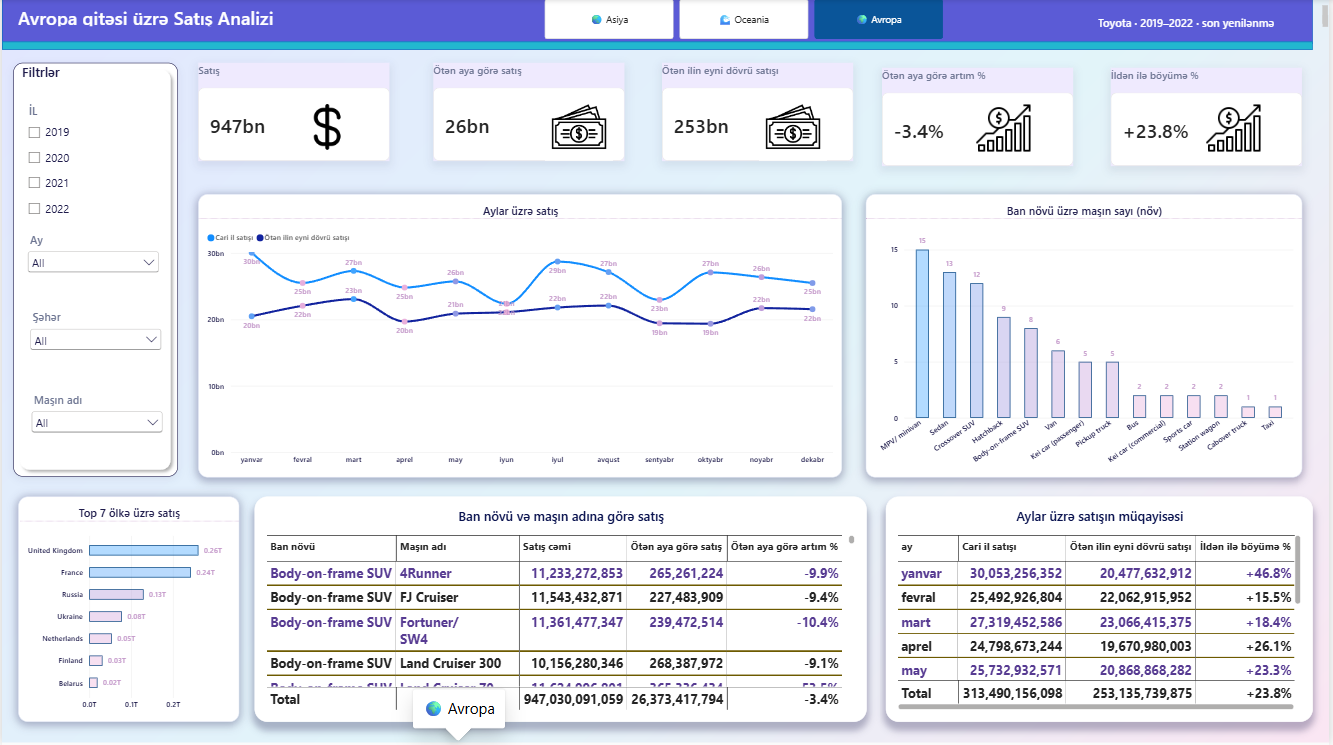

What the dashboard file says about the page in this screenshot:
{"tool":"powerbi","page":{"name":"🌍 Avropa","canvas":[1920,1080],"ordinal":2},"visuals":[{"type":"shape","box":[0,0,1898,64.9],"z":0,"group":"g1"},{"type":"shape","box":[16,92.6,238,599.4],"z":0,"group":"g2"},{"type":"group","id":"g1","title":"Group 1","box":[0,0,1897.2,73.6],"z":1000},{"type":"shape","box":[0,62.2,1898,11.9],"z":1000,"group":"g1"},{"type":"textbox","box":[24.3,8.6,1895.7,30],"z":2000},{"type":"textbox","box":[24.3,35.7,1255.7,22.9],"z":3000},{"type":"textbox","box":[1587.1,24.3,332.9,24.3],"z":4000},{"type":"textbox","box":[29.4,92,147.1,32.6],"z":5000,"group":"g2"},{"type":"slicer","fields":{"Values":["Calendar.il"]},"box":[30,150,125.9,172.7],"z":6000,"group":"g2"},{"type":"slicer","fields":{"Values":["Calendar.ay"]},"box":[32,336,199.1,59.5],"z":7000,"group":"g2"},{"type":"slicer","fields":{"Values":["Toyota_city.Şəhər"]},"box":[36,448,199.1,59.5],"z":8000,"group":"g2"},{"type":"slicer","fields":{"Values":["Toyota_sku.Maşın adı"]},"box":[38,568,199.1,59.5],"z":9000,"group":"g2"},{"type":"cardVisual","title":"İldən ilə böyümə %","fields":{"Data":["Avropa dax.İldən ilə böyümə %"]},"box":[1604.9,99.3,277.1,142.7],"z":14000,"group":"g3"},{"type":"cardVisual","title":"Ötən aya görə artım %","fields":{"Data":["Avropa dax.Ötən aya görə artım %"]},"box":[1274.2,99.3,277.1,142.7],"z":15000,"group":"g3"},{"type":"clusteredColumnChart","title":"Ban növü üzrə maşın sayı (növ)","fields":{"Category":["Toyota_sku.Ban növü"],"Y":["Dax cədvəli.Maşın sayı (növ)"]},"box":[1250,282,632,410],"z":16000},{"type":"tableEx","title":"Aylar üzrə satışın müqayisəsi","fields":{"Values":["Calendar.ay","Avropa dax.Cari il satışı","Avropa dax.Ötən ilin eyni dövrü satışı","Avropa dax.İldən ilə böyümə %"]},"box":[1280,720,618,326],"z":17000},{"type":"tableEx","title":"Ban növü və maşın adına görə satış","fields":{"Values":["Toyota_sku.Ban növü","Toyota_sku.Maşın adı","Dax cədvəli.Satış cəmi","Avropa dax.Ötən aya görə satış","Avropa dax.Ötən aya görə artım %"]},"box":[366,720,886,326],"z":19000},{"type":"cardVisual","title":"Ötən ilin eyni dövrü satışı","fields":{"Data":["Avropa dax.Ötən ilin eyni dövrü satışı"]},"box":[955.8,92,277.1,142.7],"z":20000,"group":"g3"},{"type":"cardVisual","title":"Ötən aya görə satış","fields":{"Data":["Avropa dax.Ötən aya görə satış"]},"box":[625.1,92,277.1,142.7],"z":21000,"group":"g3"},{"type":"cardVisual","title":"Satış","fields":{"Data":["Dax cədvəli.Satış cəmi"]},"box":[284,92,277.1,142.7],"z":22000,"group":"g3"},{"type":"clusteredBarChart","title":"Top 7 ölkə üzrə satış","fields":{"Category":["Toyota_city.Ölkə"],"Y":["Dax cədvəli.Satış cəmi"]},"box":[24,720,320,326],"z":23000},{"type":"lineChart","title":"Aylar üzrə satış","fields":{"Category":["Calendar.ay"],"Y":["Avropa dax.Cari il satışı","Avropa dax.Ötən ilin eyni dövrü satışı"]},"box":[284,282,932,410],"z":24000},{"type":"group","id":"g2","title":"Group 2","box":[16,92,238,600],"z":24001},{"type":"group","id":"g3","title":"Group 3","box":[284,92,1598,150],"z":24002},{"type":"image","box":[1084,136,122,98],"z":24004},{"type":"image","box":[786,136,100,98],"z":24005},{"type":"image","box":[1364,144,170,84],"z":24007},{"type":"image","box":[1698,144,170,84],"z":24008},{"type":"image","box":[422,152,98,66],"z":24009},{"type":"pageNavigator","box":[785.7,0,578.6,58.6],"z":30000}]}

Visuals, with their boxes in screenshot pixels (x1, y1, x2, y2), scaled from the page's 1920x1080 canvas onto the 1333x745 screenshot:
shape: box=[0, 0, 1318, 45]
shape: box=[11, 64, 176, 477]
"Group 1" group: box=[0, 0, 1317, 51]
shape: box=[0, 43, 1318, 51]
textbox: box=[17, 6, 1332, 27]
textbox: box=[17, 25, 889, 40]
textbox: box=[1102, 17, 1332, 34]
textbox: box=[20, 63, 123, 86]
slicer - Calendar.il: box=[21, 103, 108, 223]
slicer - Calendar.ay: box=[22, 232, 160, 273]
slicer - Toyota_city.Şəhər: box=[25, 309, 163, 350]
slicer - Toyota_sku.Maşın adı: box=[26, 392, 165, 433]
"İldən ilə böyümə %" cardVisual: box=[1114, 68, 1307, 167]
"Ötən aya görə artım %" cardVisual: box=[885, 68, 1077, 167]
"Ban növü üzrə maşın sayı (növ)" clusteredColumnChart: box=[868, 195, 1307, 477]
"Aylar üzrə satışın müqayisəsi" tableEx: box=[889, 497, 1318, 722]
"Ban növü və maşın adına görə satış" tableEx: box=[254, 497, 869, 722]
"Ötən ilin eyni dövrü satışı" cardVisual: box=[664, 63, 856, 162]
"Ötən aya görə satış" cardVisual: box=[434, 63, 626, 162]
"Satış" cardVisual: box=[197, 63, 390, 162]
"Top 7 ölkə üzrə satış" clusteredBarChart: box=[17, 497, 239, 722]
"Aylar üzrə satış" lineChart: box=[197, 195, 844, 477]
"Group 2" group: box=[11, 63, 176, 477]
"Group 3" group: box=[197, 63, 1307, 167]
image: box=[753, 94, 837, 161]
image: box=[546, 94, 615, 161]
image: box=[947, 99, 1065, 157]
image: box=[1179, 99, 1297, 157]
image: box=[293, 105, 361, 150]
pageNavigator: box=[545, 0, 947, 40]
